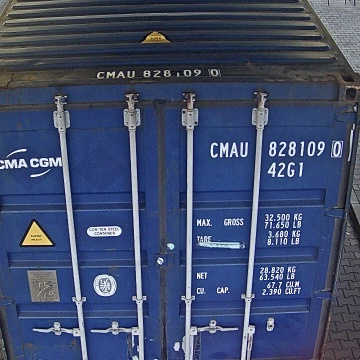serial_id: (209, 141, 341, 157)
